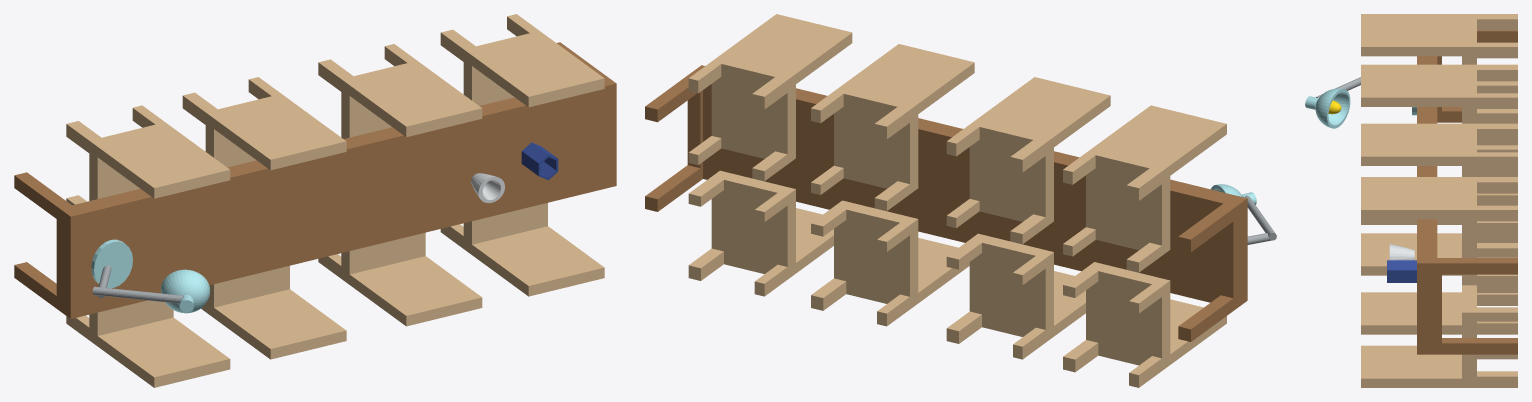
The model's file is tinker.obj.
3 renders of one model, left to right at view 1: azimuth 30°, elevation 25°; view 2: azimuth 150°, elevation 25°; view 3: azimuth 270°, elevation 25°, orthographic. The views are drawn at different scales.
Visible parts, largest first — view 1: group_0_14860437, group_0_11107152, group_0_11593967, group_0_10988977, group_0_3888547, group_0_14541540; view 2: group_0_14860437, group_0_11107152, group_0_10988977; view 3: group_0_14860437, group_0_11107152, group_0_11593967, group_0_3888547, group_0_14541540.
Boxes of the visible parts, bbox=[...] form: group_0_14860437: bbox=[66, 14, 604, 387]; group_0_11107152: bbox=[14, 42, 616, 318]; group_0_11593967: bbox=[91, 239, 210, 313]; group_0_10988977: bbox=[92, 265, 183, 303]; group_0_3888547: bbox=[521, 142, 558, 180]; group_0_14541540: bbox=[471, 173, 504, 203]; group_0_14860437: bbox=[688, 14, 1226, 387]; group_0_11107152: bbox=[645, 65, 1247, 341]; group_0_10988977: bbox=[1244, 195, 1276, 244]; group_0_14860437: bbox=[1361, 14, 1517, 387]; group_0_11107152: bbox=[1417, 30, 1517, 354]; group_0_11593967: bbox=[1305, 88, 1416, 128]; group_0_3888547: bbox=[1387, 260, 1416, 282]; group_0_14541540: bbox=[1389, 244, 1414, 260].
Bounding box in the file's own units: 112 × 39 × 42.23.
